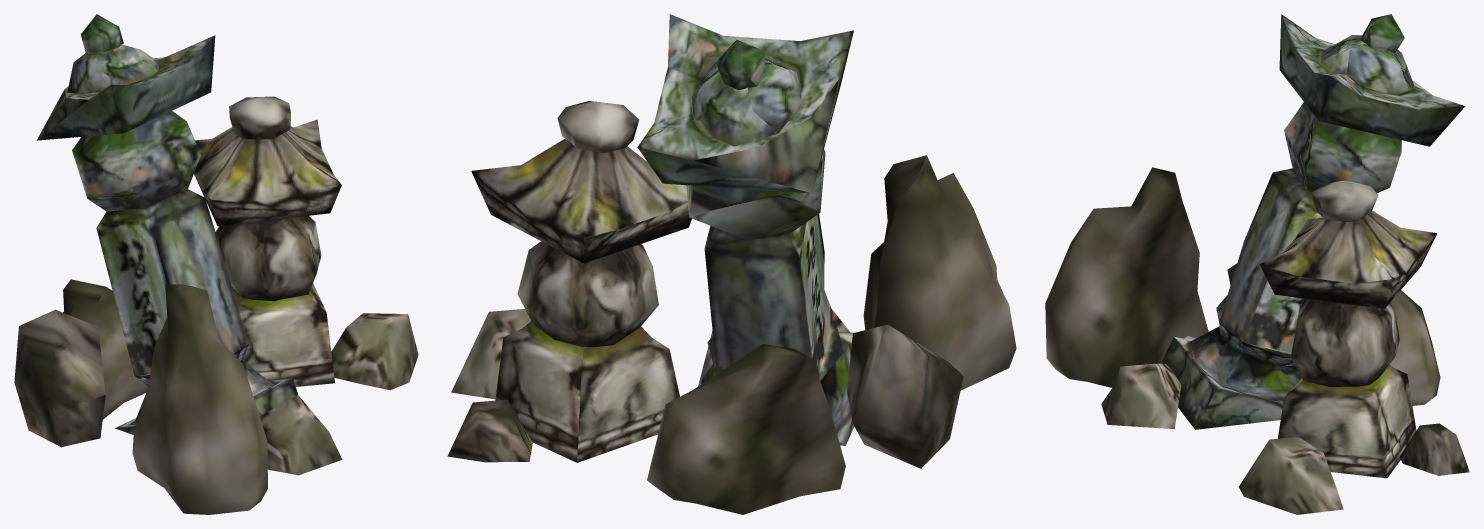
The model's file is DEC_GravestoneGroupB.FBX.
3 renders of one model, left to right at view 1: azimuth 30°, elevation 25°; view 2: azimuth 150°, elevation 25°; view 3: azimuth 270°, elevation 25°, orthographic. The views are drawn at different scales.
Visible parts, largest first — view 1: DEC_GravestoneGroupB; view 2: DEC_GravestoneGroupB; view 3: DEC_GravestoneGroupB.
Part boxes in pixels (<box>): DEC_GravestoneGroupB: <box>14,14,418,514</box>; DEC_GravestoneGroupB: <box>447,14,1016,514</box>; DEC_GravestoneGroupB: <box>1045,14,1469,514</box>.
Size of the model in its own units: 220 by 200 by 208.
